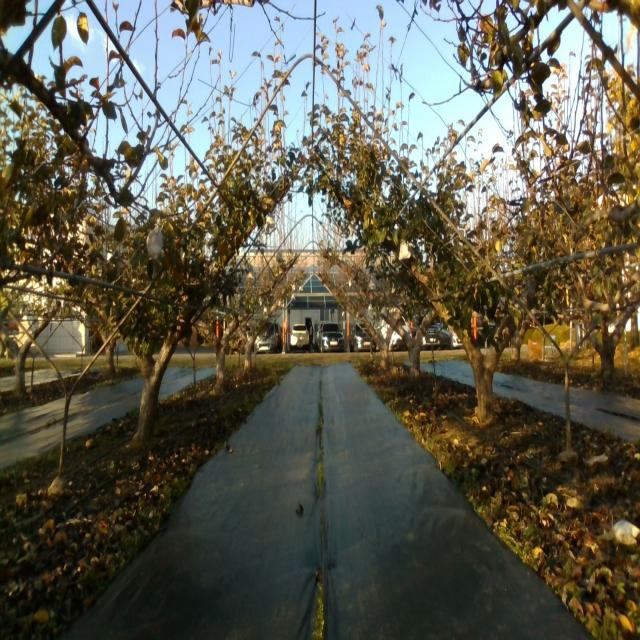pearbags: (146, 225, 164, 261), (398, 240, 411, 261)
